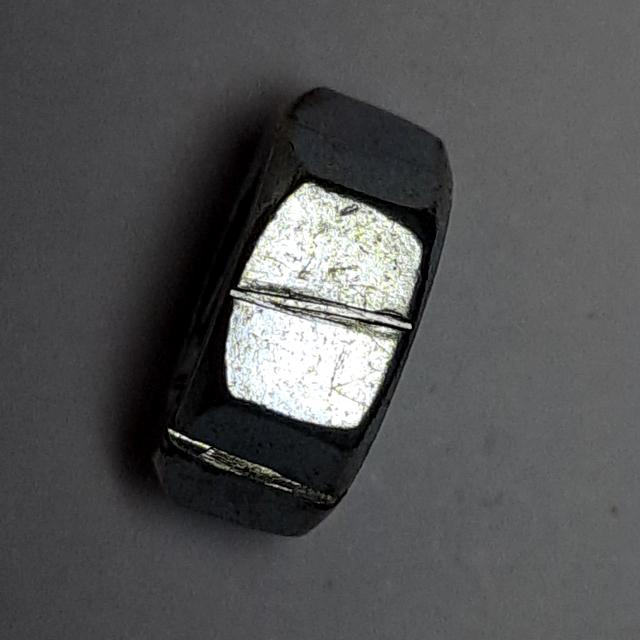Side_Scratches: (136, 68, 469, 554)
